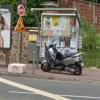Motorcycle: (38, 38, 87, 75)
